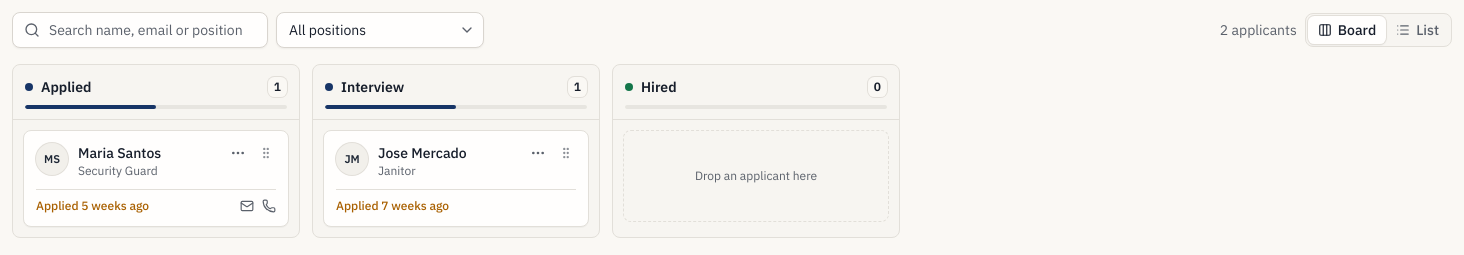
Test: ApplicantPipeline › switches to a list with one row per applicant
Click the radio button labelled "List" at (1418, 30), box [1386,16,1449,44]
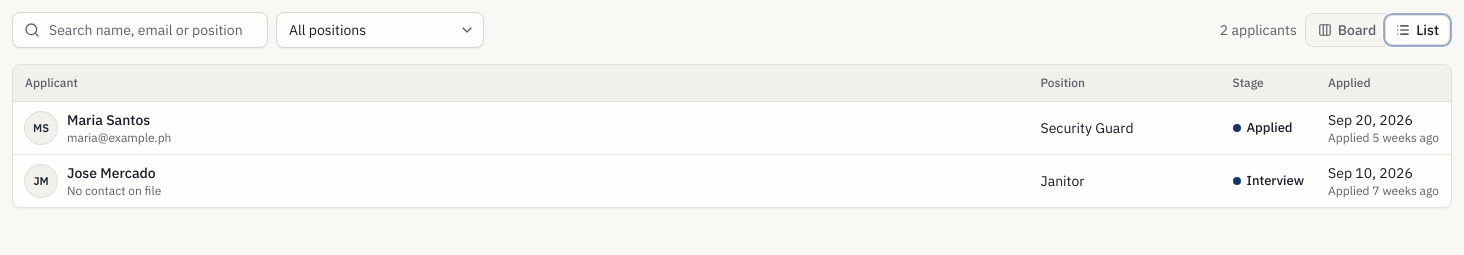
Expected: the button "Maria Santos" is shown, [67,110,171,130]
Now the number of rows is 3, box [13,65,1451,101]; [13,101,1451,154]; [13,154,1451,206]
